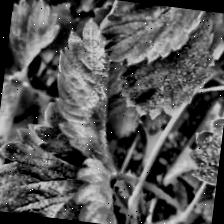Powdery Mildew Leaf: (30, 13, 138, 174), (23, 150, 148, 224)
